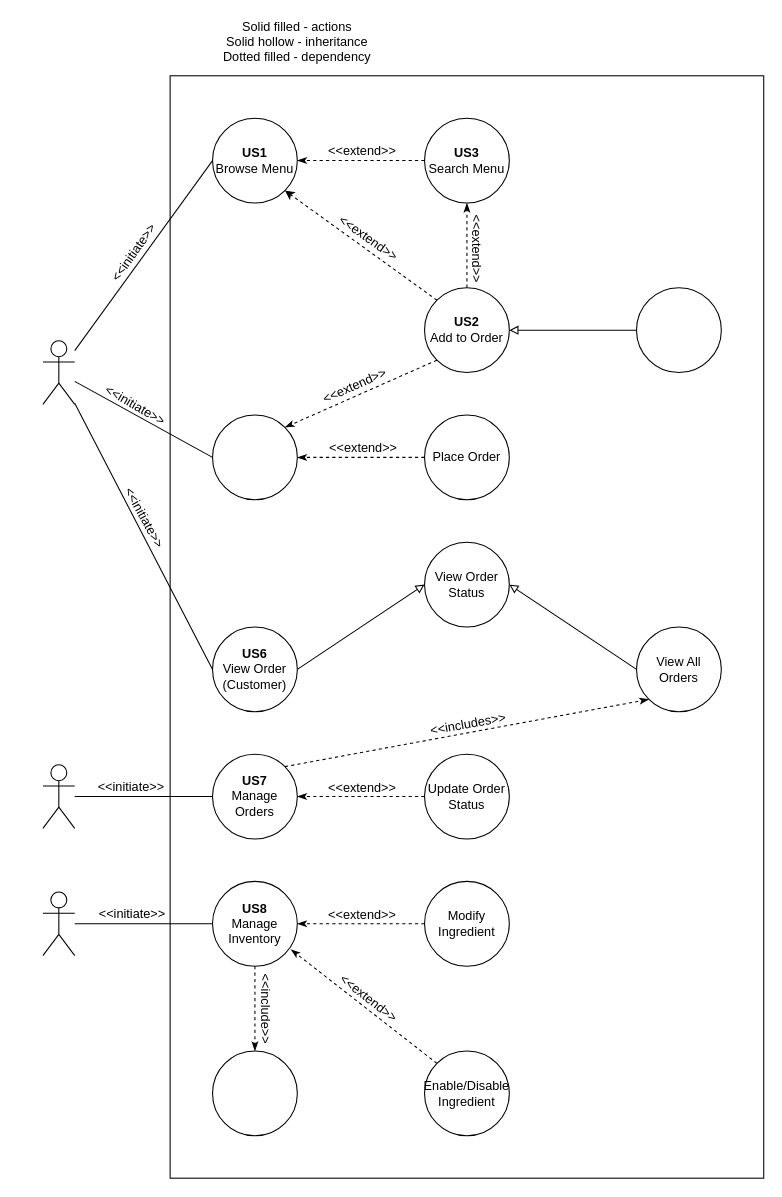
Some shapes in this 782 by 1197 pixel diagram are drawn without their labels. The centre of each missing label's shape, as x and y in pixels:
"Customer" belongs at (x=58, y=372).
"Inventory Staff" belongs at (x=58, y=923).
"Kitchen Staff" belongs at (x=58, y=796).
"US4 Customise Order" belongs at (x=678, y=330).
"US5 Checkout Order" belongs at (x=254, y=457).
"View Inventory" belongs at (x=254, y=1093).
